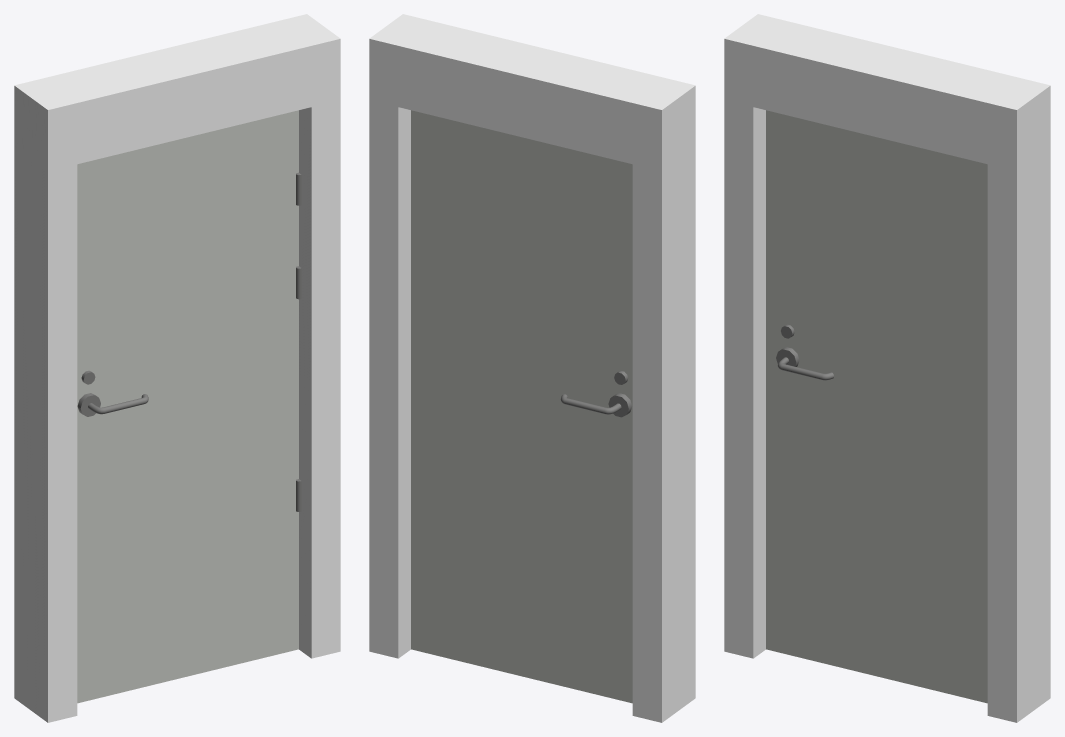
The model's file is Fireproof_Door-single.fbx.
The picture shows the model from 3 angles, left to right: view 1: azimuth 30°, elevation 25°; view 2: azimuth 150°, elevation 25°; view 3: azimuth 330°, elevation 25°; orthographic projection.
Visible parts, largest first — view 1: Box004, Box001; view 2: Box004, Box001; view 3: Box004, Box001.
Part boxes in pixels (left/top/right/bottom): Box004: left=77, top=110, right=301, bottom=703; Box001: left=14, top=14, right=340, bottom=722; Box004: left=411, top=110, right=632, bottom=703; Box001: left=369, top=14, right=695, bottom=722; Box004: left=766, top=110, right=987, bottom=703; Box001: left=724, top=14, right=1050, bottom=722.
Size of the model in its own units: 39.37 by 78.74 by 7.98.
3 materials, 3 textured.
